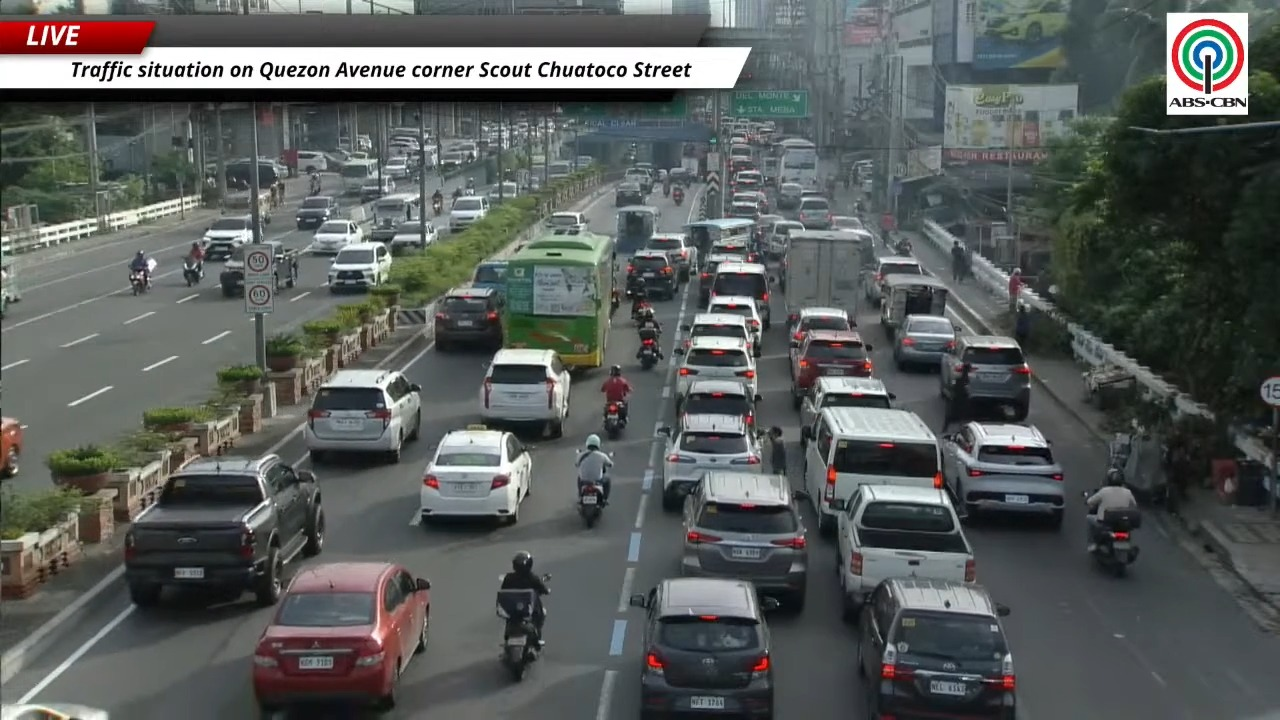bus: (502, 230, 614, 369), (773, 138, 819, 188), (340, 159, 377, 194)
car: (251, 562, 430, 716), (857, 577, 1016, 719), (629, 578, 777, 719), (681, 469, 807, 611), (941, 422, 1064, 527), (304, 369, 421, 463), (420, 425, 531, 524), (658, 415, 762, 510), (479, 348, 570, 437), (939, 335, 1031, 421), (791, 330, 872, 408), (800, 376, 895, 426), (434, 286, 502, 351), (676, 379, 760, 428), (711, 262, 770, 330), (984, 0, 1068, 43), (705, 296, 762, 357), (681, 312, 759, 356), (894, 315, 956, 369), (327, 242, 392, 292), (864, 256, 927, 306), (788, 307, 854, 349), (627, 250, 679, 299), (698, 252, 744, 306), (645, 233, 697, 280), (201, 215, 252, 261), (261, 240, 298, 291), (310, 219, 364, 253), (0, 703, 108, 719), (388, 220, 437, 251), (449, 195, 489, 232), (766, 220, 804, 257), (0, 417, 23, 478), (295, 196, 338, 228), (471, 260, 506, 296), (710, 236, 756, 262), (797, 196, 832, 229), (359, 173, 395, 201), (753, 213, 784, 243), (544, 211, 588, 231), (623, 167, 653, 196), (615, 180, 647, 206), (737, 190, 770, 215), (486, 181, 519, 206), (777, 182, 803, 209), (297, 150, 328, 172), (726, 201, 760, 220), (733, 170, 763, 190), (383, 157, 410, 179), (830, 216, 865, 230), (729, 189, 758, 204)
motorcycle: (497, 589, 539, 680), (1090, 508, 1140, 577), (578, 483, 602, 528), (604, 402, 625, 439), (639, 339, 658, 369), (183, 258, 203, 286), (130, 270, 148, 295), (894, 237, 912, 255), (610, 288, 620, 316), (432, 198, 442, 216), (672, 191, 683, 206), (663, 185, 670, 197)
truck: (124, 454, 324, 607), (831, 484, 975, 620), (781, 230, 873, 317), (263, 241, 299, 290), (0, 258, 20, 317)
